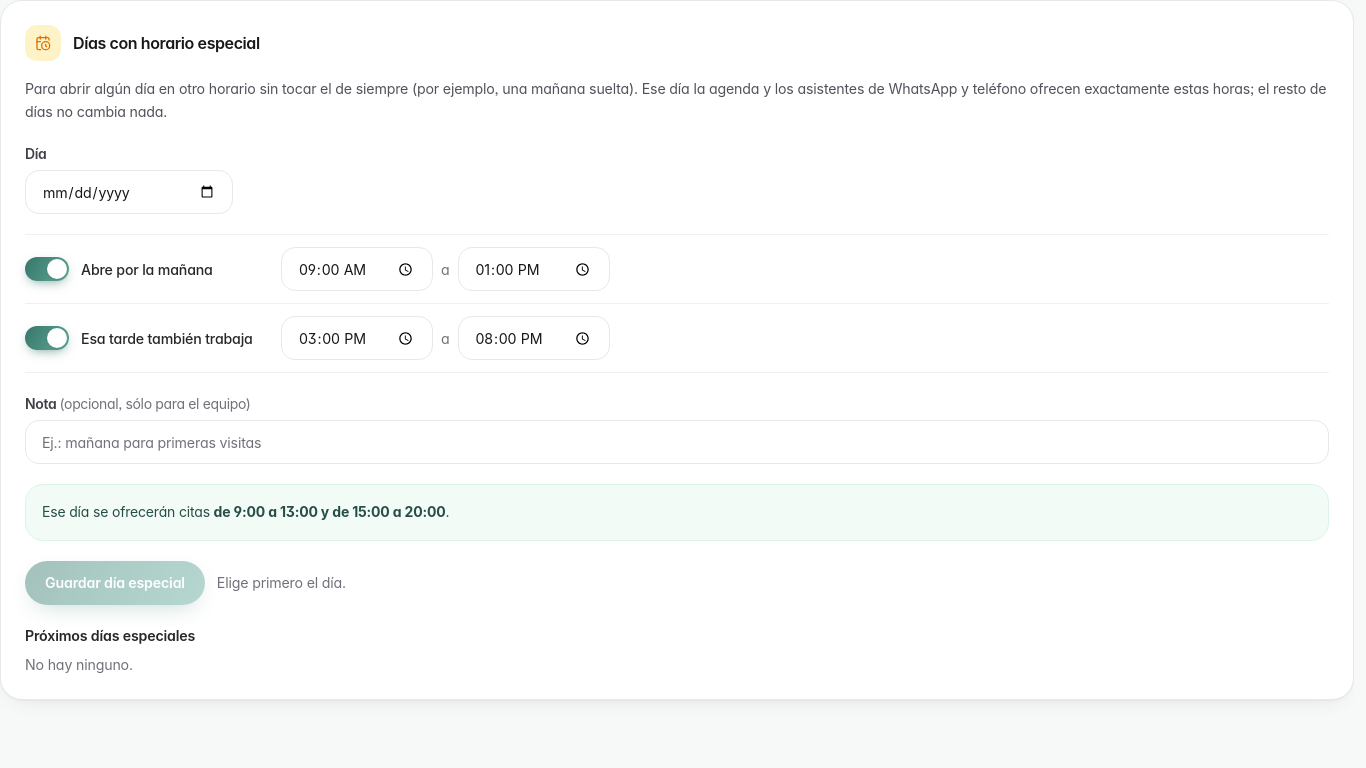
tarjeta "Días con horario especial" › sin mañana ni tarde no deja guardar
Type "2026-11-17" into the date field labelled "Día" at (129, 192), box [25,170,233,214]
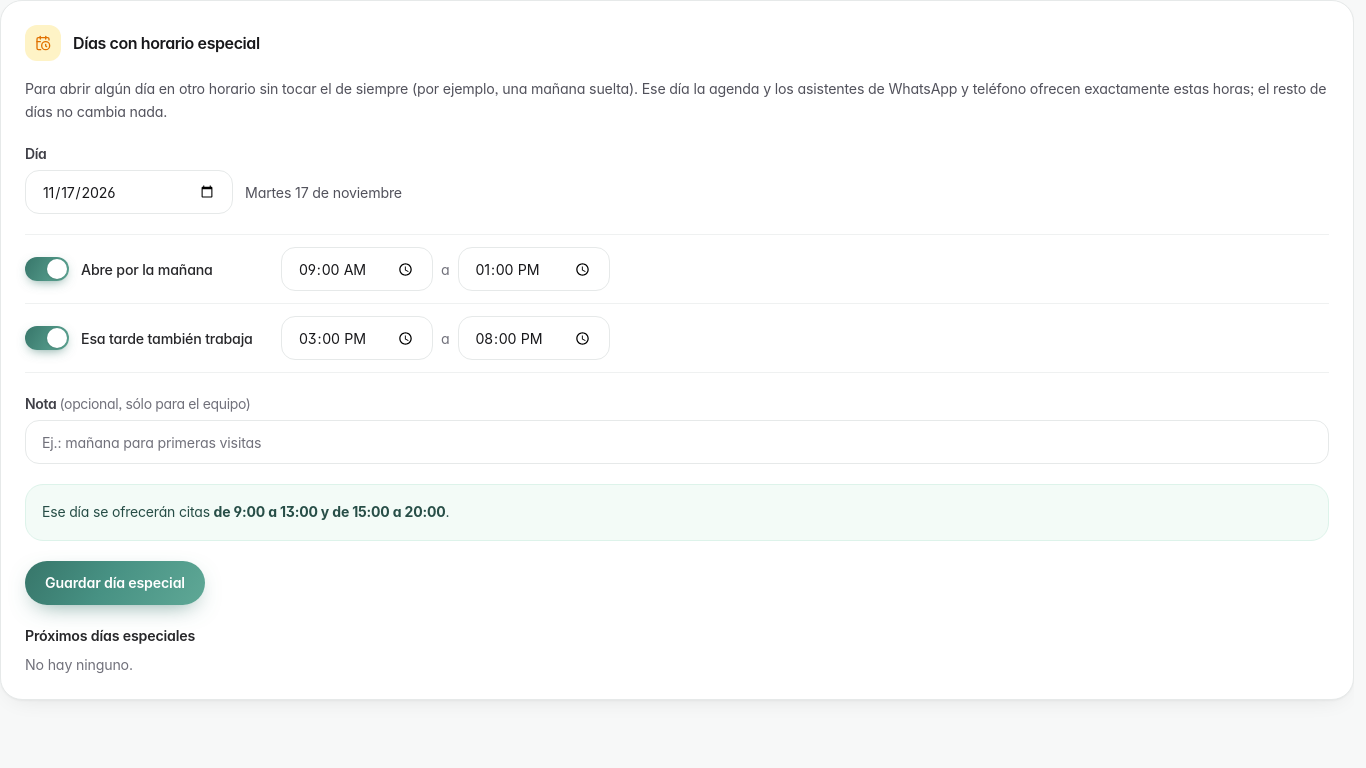
Click the switch named "Abre por la mañana" at (47, 269), box [25,257,69,281]
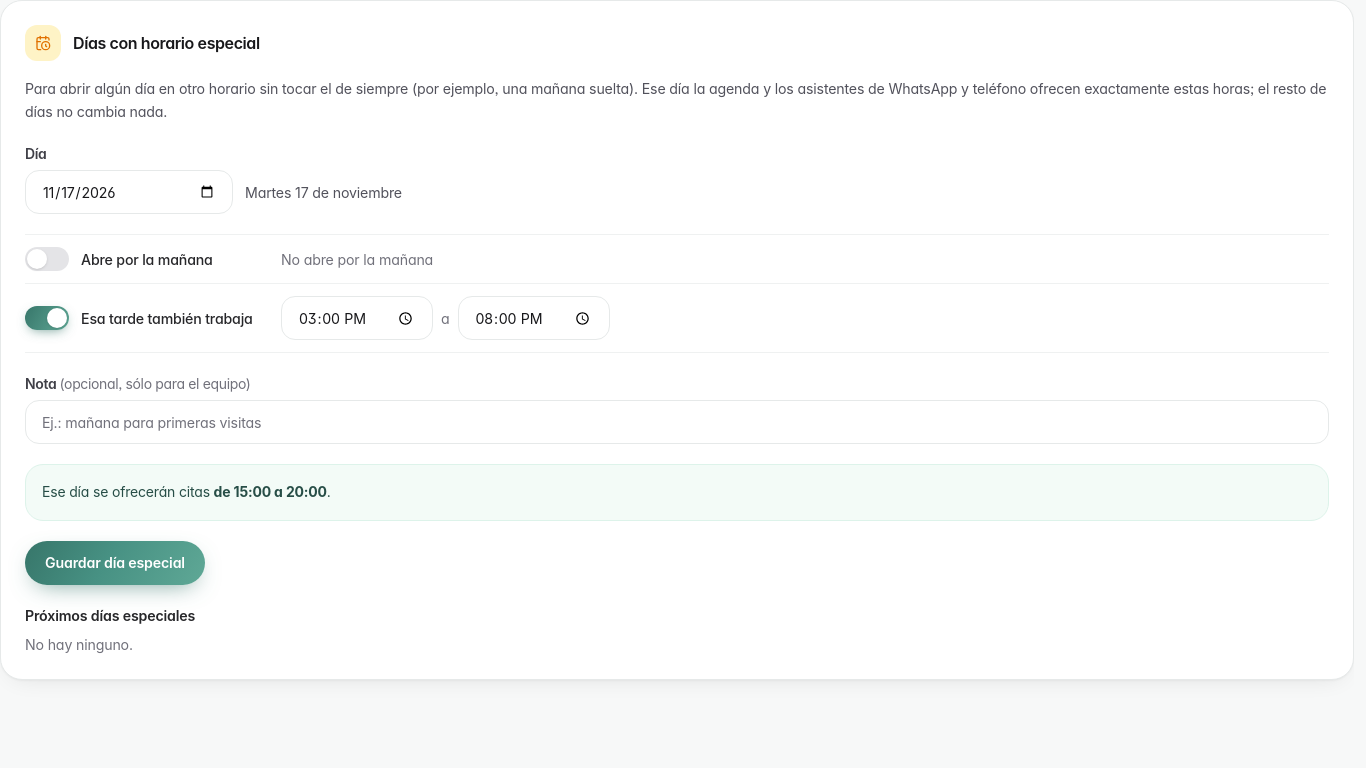
Click the switch named "Esa tarde también trabaja" at (47, 318), box [25,306,69,330]
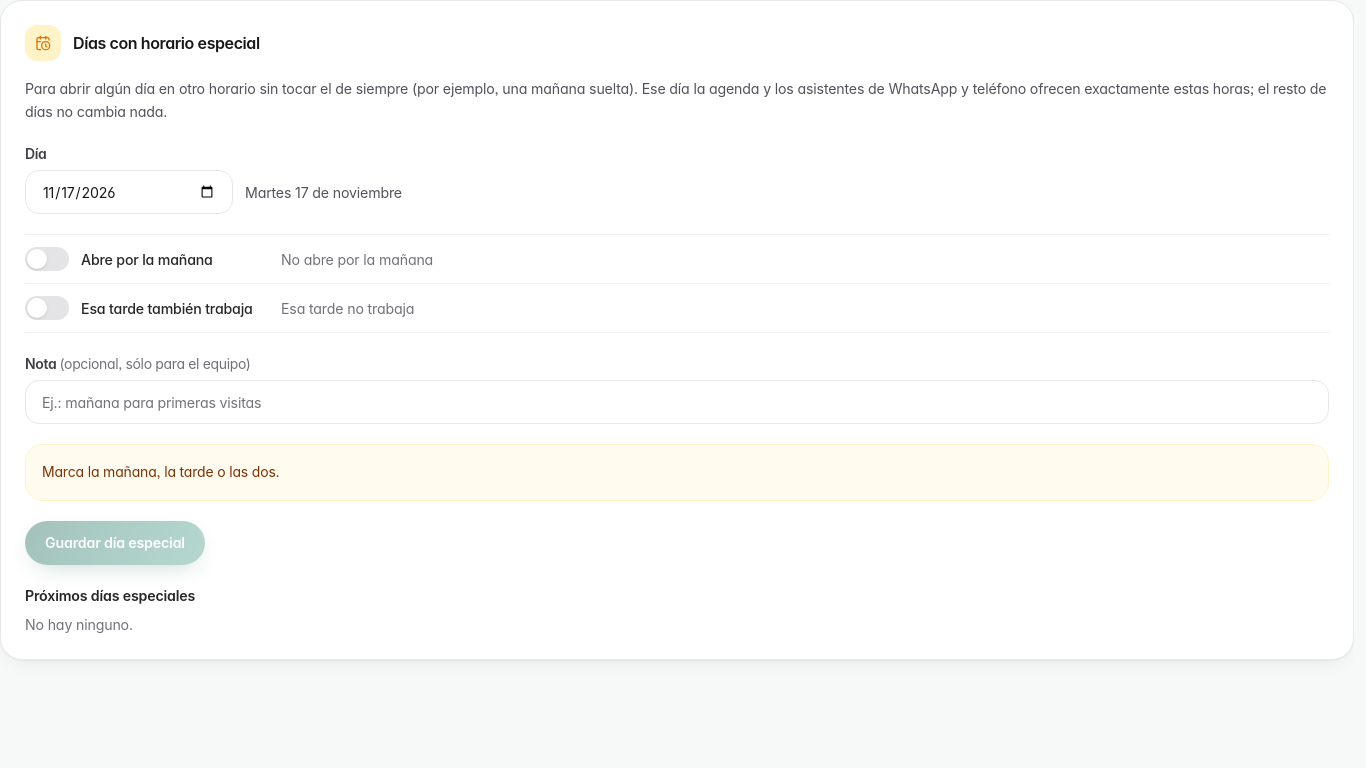
Check: the text "Marca la mañana, la tarde o las dos." is shown, box [42,461,280,484]
Check: the button "Guardar día especial" is disabled, box [25,521,205,565]
